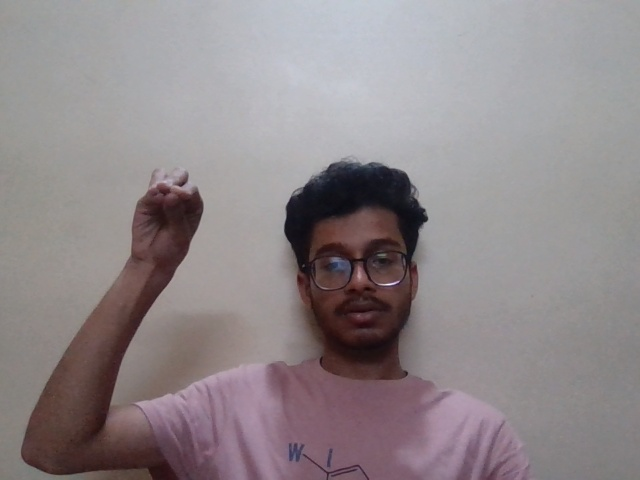talk: (121, 167, 223, 280)
